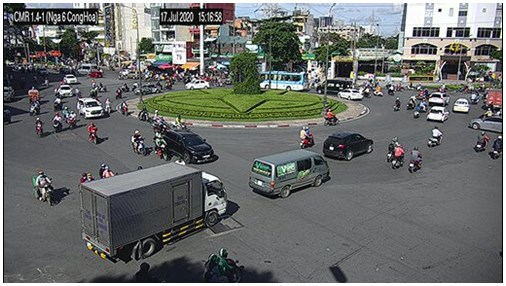xe_buyt: (258, 71, 310, 90)
xe_hoi: (164, 129, 214, 163), (323, 131, 373, 161), (467, 114, 503, 132), (77, 98, 105, 119), (427, 106, 448, 123), (337, 88, 363, 101), (429, 92, 448, 106), (452, 98, 469, 113), (185, 80, 209, 89), (57, 86, 72, 97), (125, 70, 143, 79), (61, 74, 76, 84), (86, 69, 100, 76)
xe_khach: (249, 150, 331, 199), (314, 78, 352, 94), (77, 63, 96, 75)
xe_may: (203, 247, 242, 282), (32, 169, 53, 206), (130, 130, 146, 156), (408, 145, 422, 174), (153, 132, 167, 160), (297, 125, 314, 148), (388, 136, 403, 161), (427, 126, 443, 148), (391, 145, 405, 169), (96, 161, 114, 179), (324, 109, 341, 127), (171, 114, 188, 130), (474, 130, 486, 152), (88, 120, 98, 146), (492, 133, 502, 159), (52, 111, 62, 135), (150, 110, 163, 127), (35, 117, 44, 139), (69, 111, 78, 131), (137, 105, 148, 121), (78, 173, 93, 184), (30, 99, 40, 115), (121, 100, 130, 117), (64, 106, 71, 127), (418, 98, 429, 111), (470, 88, 479, 103), (53, 95, 61, 111), (392, 97, 401, 111), (373, 85, 384, 96), (405, 97, 415, 109), (435, 83, 447, 93), (104, 97, 111, 113), (412, 104, 420, 118), (406, 80, 416, 90), (387, 84, 396, 94), (164, 78, 173, 88), (98, 80, 106, 91), (395, 81, 405, 89), (115, 87, 123, 97), (74, 85, 80, 96), (484, 108, 491, 116), (414, 82, 421, 90), (123, 82, 129, 90)
xe_tai: (80, 162, 228, 257)
